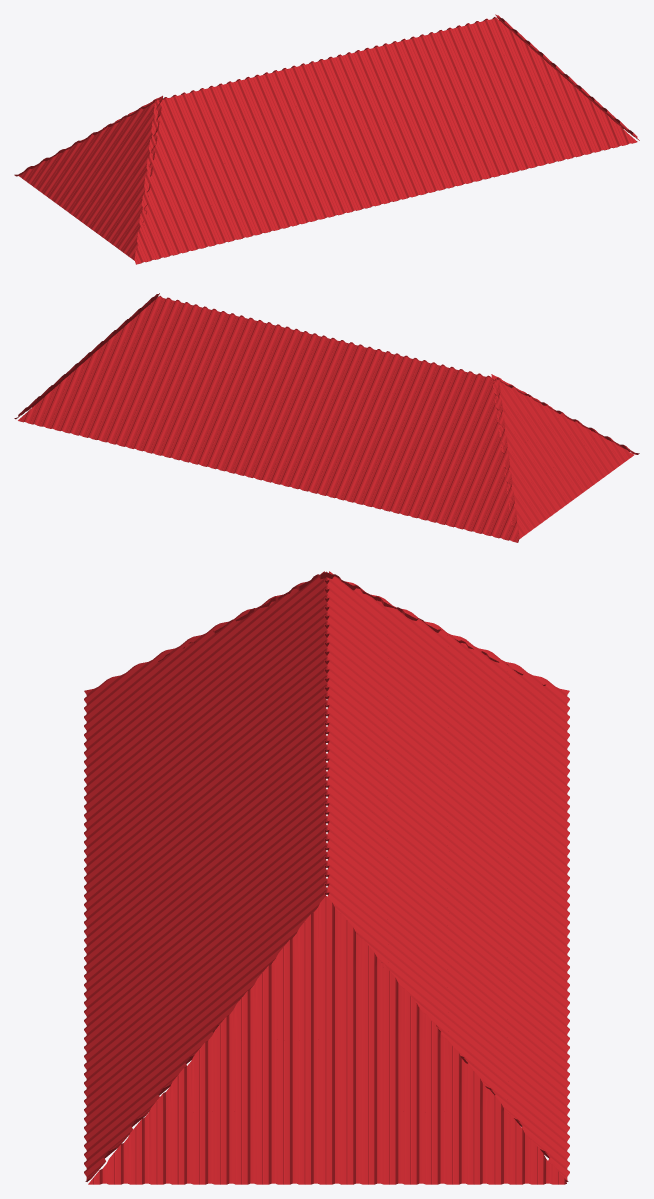
File: profnastilp45_3.glb
The picture shows the model from 3 angles, top to bottom: view 1: azimuth 30°, elevation 25°; view 2: azimuth 150°, elevation 25°; view 3: azimuth 270°, elevation 25°; orthographic projection. The views are drawn at different scales.
Visible parts, largest first — view 1: PROFNASTIL P45 ev3; view 2: PROFNASTIL P45 ev3; view 3: PROFNASTIL P45 ev3.
Boxes of the visible parts, <box> form: PROFNASTIL P45 ev3: <box>14,14,639,264</box>; PROFNASTIL P45 ev3: <box>14,293,639,542</box>; PROFNASTIL P45 ev3: <box>84,571,569,1184</box>.
Bounding box in the file's own units: 50.72 × 10 × 21.1.
